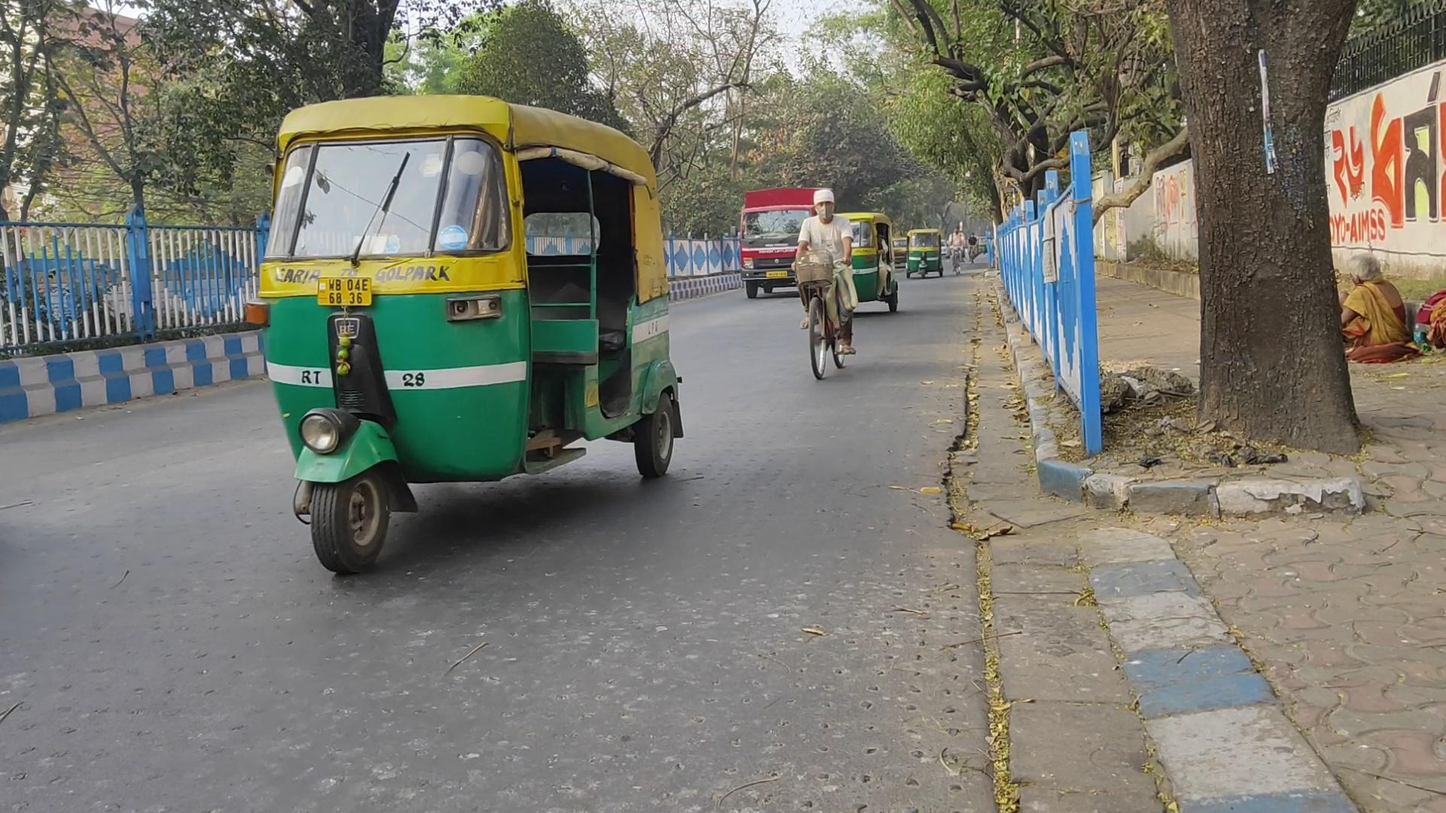Auto: (247, 91, 684, 575), (832, 209, 898, 315), (905, 227, 945, 282)
bike: (798, 186, 856, 379)
van: (738, 189, 826, 298)
